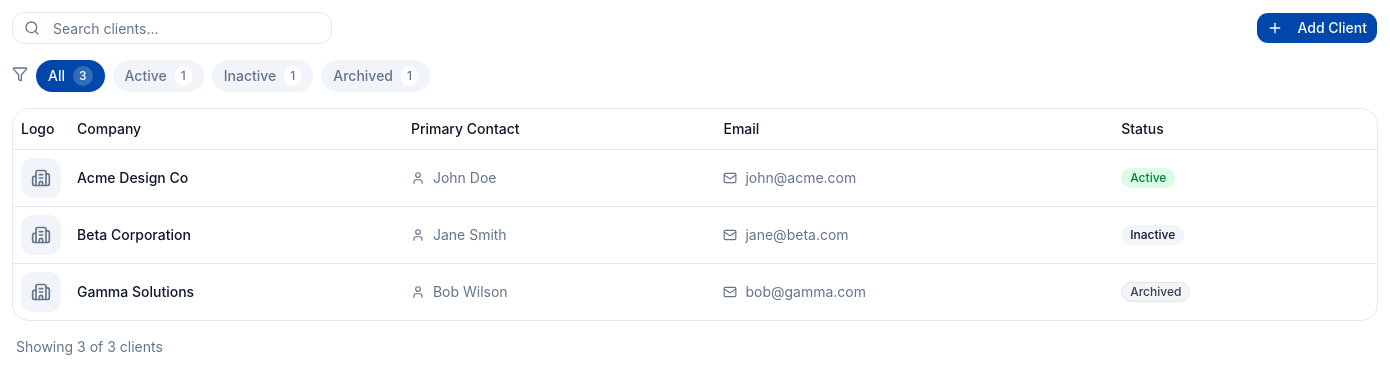
Test: ClientList › should filter clients by search query
The width and height of the screenshot is (1390, 372).
Type "acme" into the field with placeholder "Search clients..." at (172,28), box [12, 12, 332, 44]
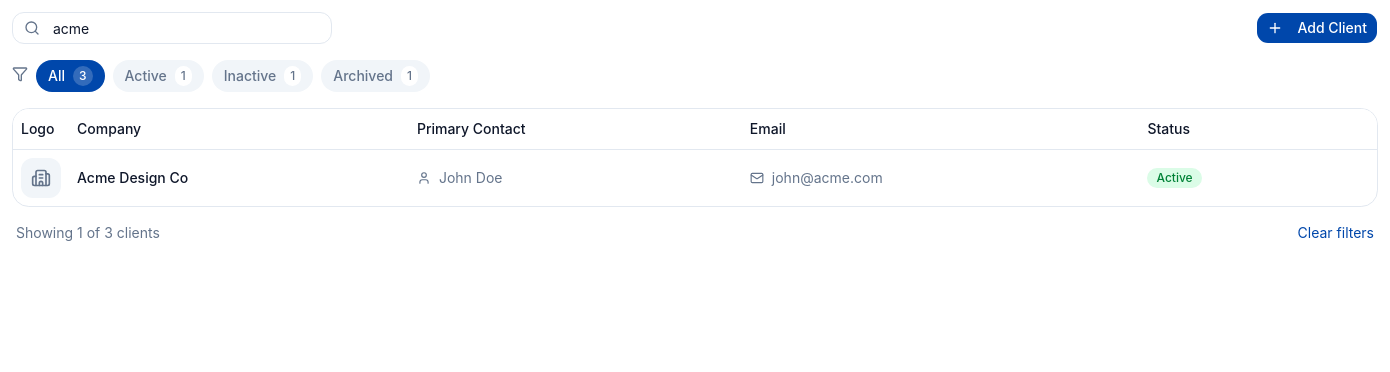
Check: the text "Acme Design Co" is shown, box [77, 168, 188, 186]
Check: the text "Beta Corporation" is gone
